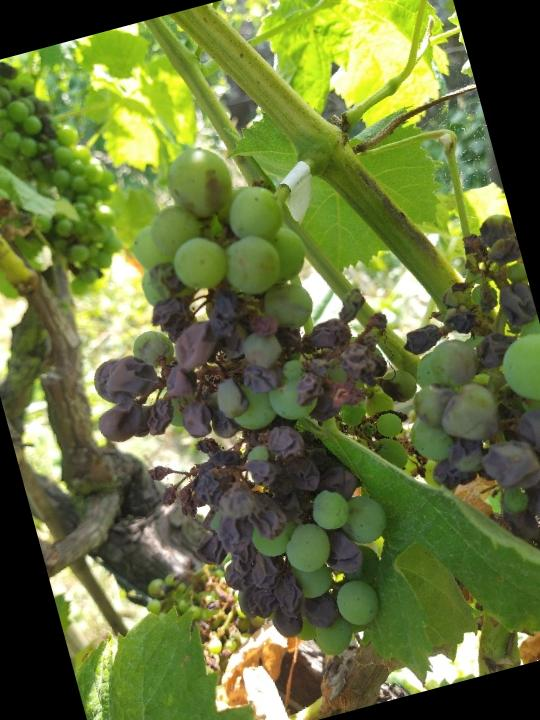grape: (35, 107, 478, 702), (0, 51, 131, 315)
